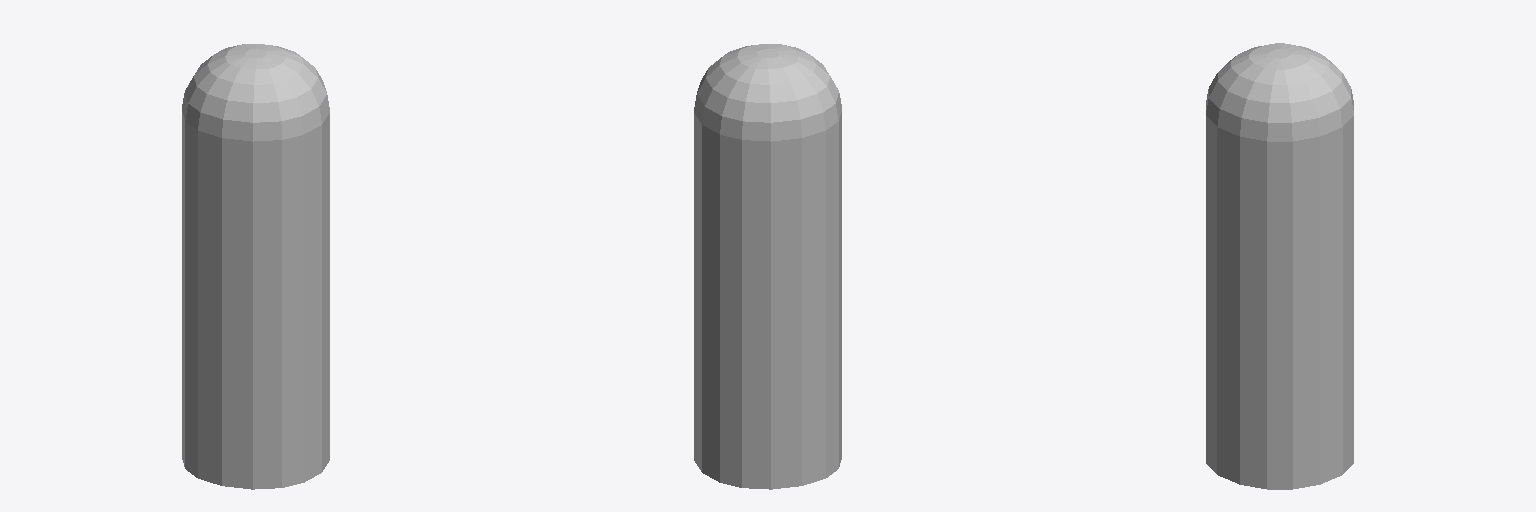
File: Pipe02.obj
The picture shows the model from 3 angles: view 1: azimuth 30°, elevation 25°; view 2: azimuth 150°, elevation 25°; view 3: azimuth 270°, elevation 25°; orthographic projection.
Parts seen in each view (by area): view 1: Pipe02; view 2: Pipe02; view 3: Pipe02.
Part boxes in pixels (bbox=[...]): Pipe02: bbox=[182, 44, 329, 489]; Pipe02: bbox=[694, 44, 841, 489]; Pipe02: bbox=[1206, 43, 1353, 489].
Size of the model in its own units: 0.6667 by 2 by 0.6667.